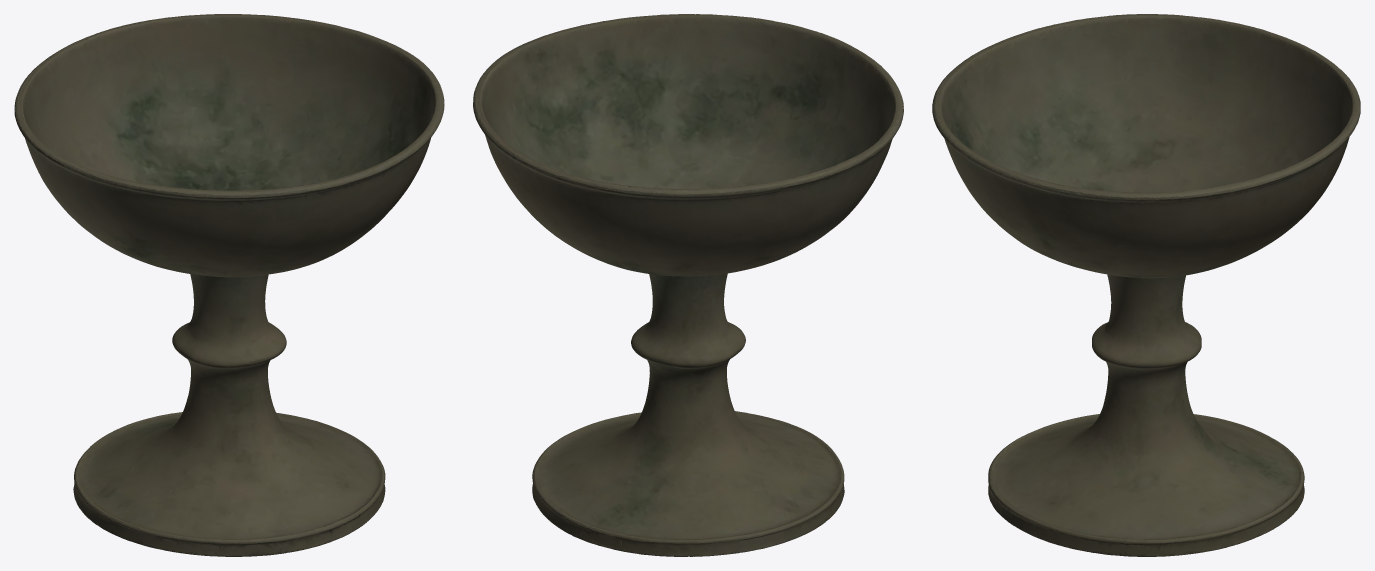
The model's file is tex_mesh.glb.
The picture shows the model from 3 angles, left to right: view 1: azimuth 30°, elevation 25°; view 2: azimuth 150°, elevation 25°; view 3: azimuth 270°, elevation 25°; orthographic projection.
Parts seen in each view (by area): view 1: geometry_0; view 2: geometry_0; view 3: geometry_0.
Boxes of the visible parts, <box> form: geometry_0: <box>14,14,444,556</box>; geometry_0: <box>473,14,903,556</box>; geometry_0: <box>932,14,1360,556</box>.
Bounding box in the file's own units: 0.1672 × 0.165 × 0.1651.
1 material, 1 textured.
